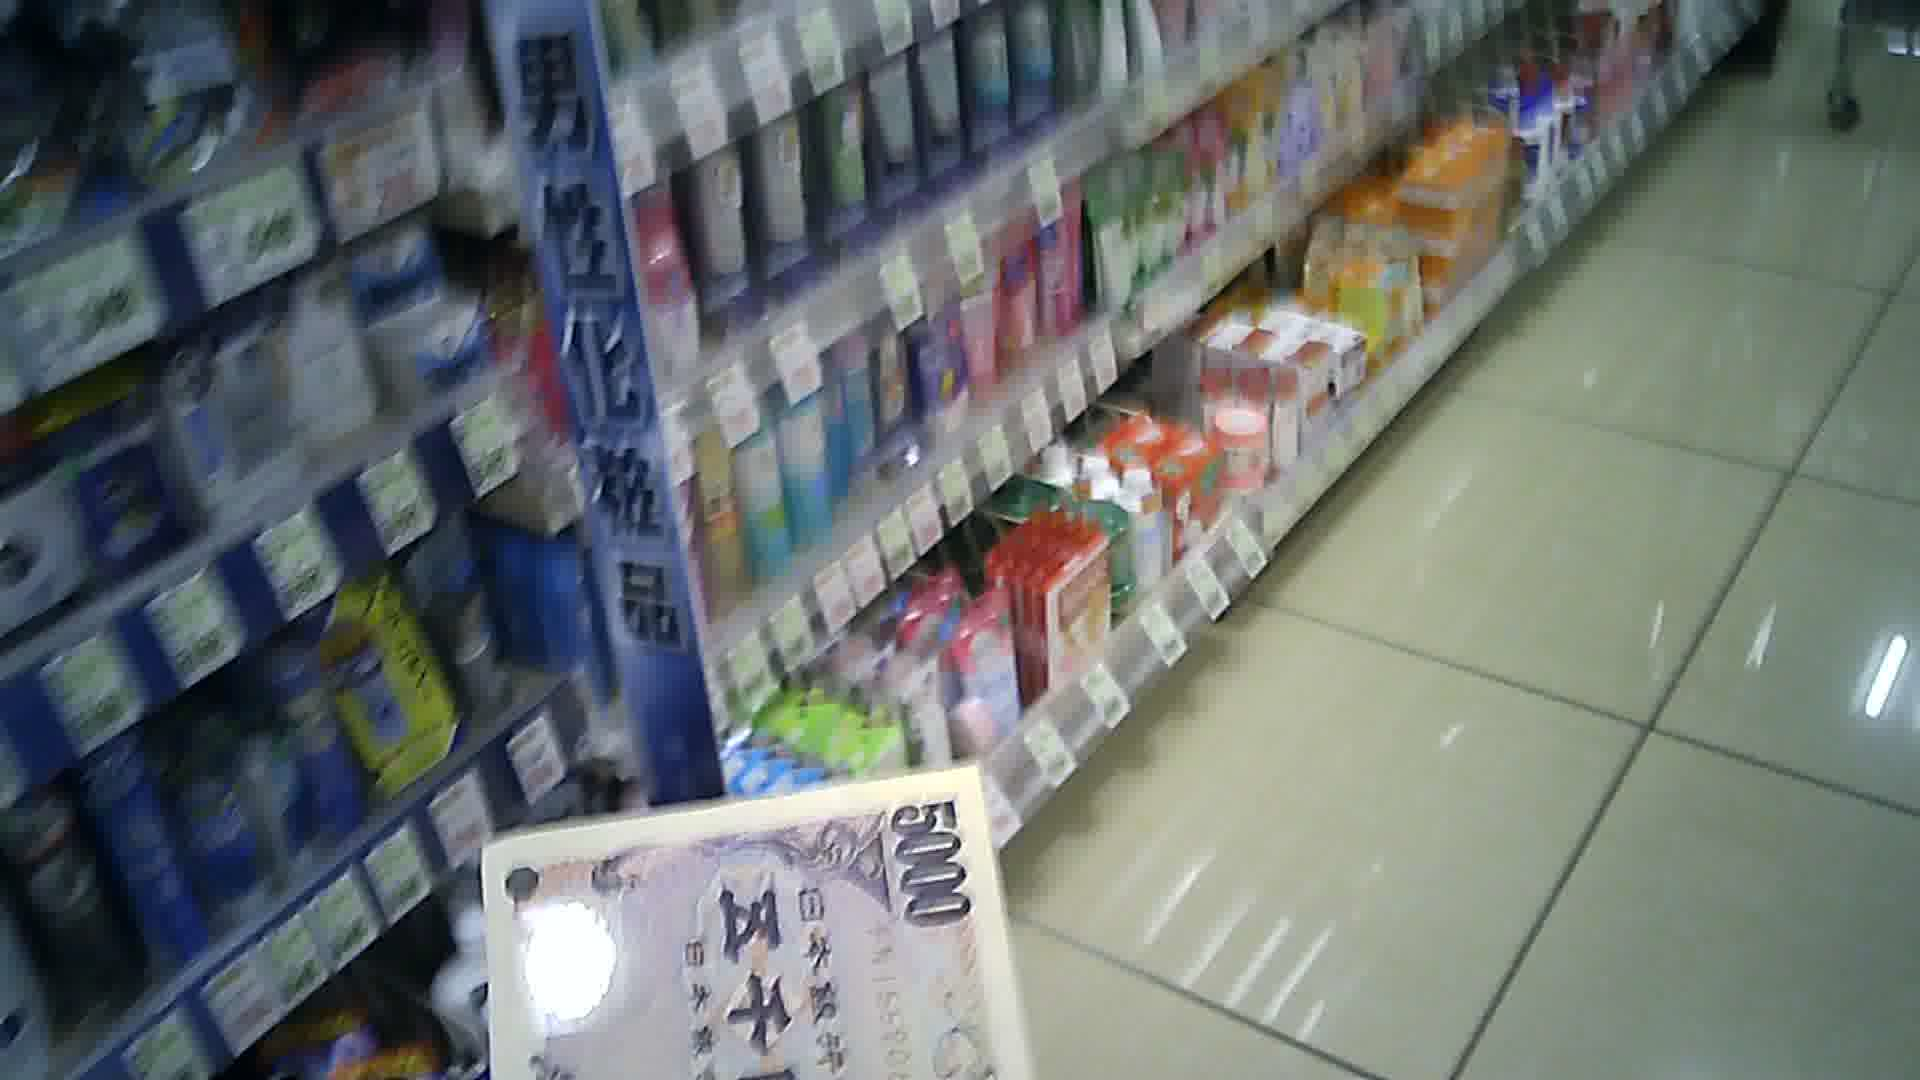5,000 Yen: (473, 781, 1050, 1079)
